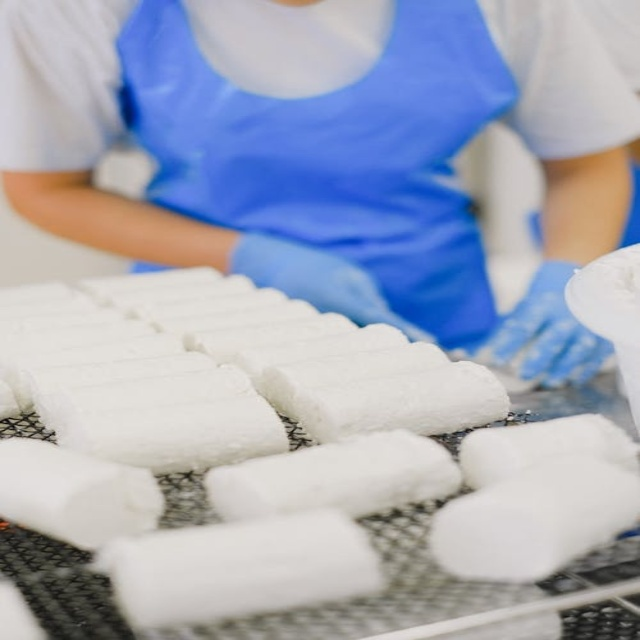Guantes: (226, 231, 424, 338), (464, 261, 609, 390)
